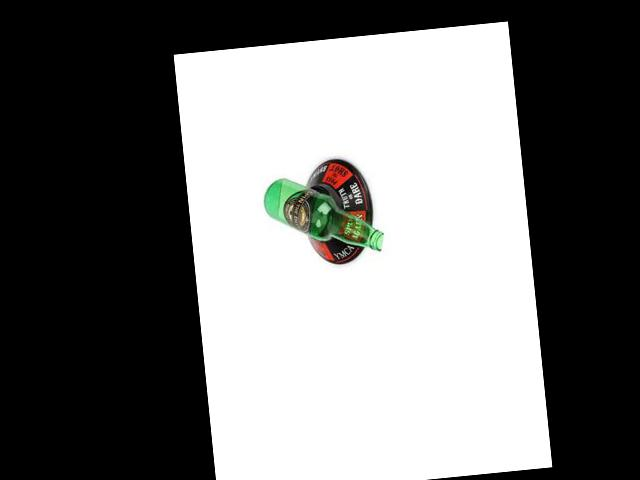beer: (262, 167, 385, 260)
